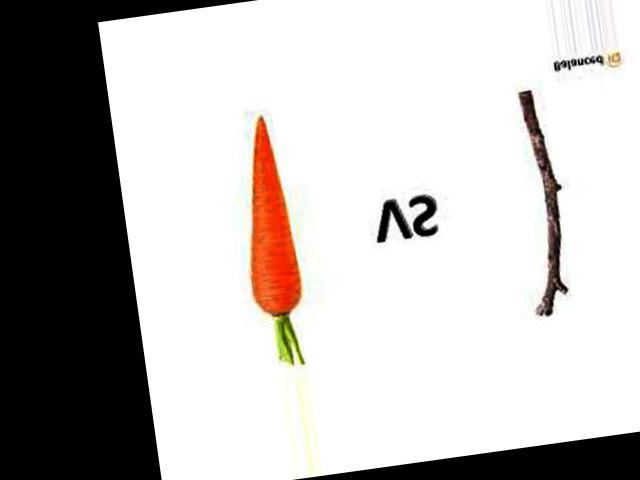carrot: (225, 105, 315, 329)
